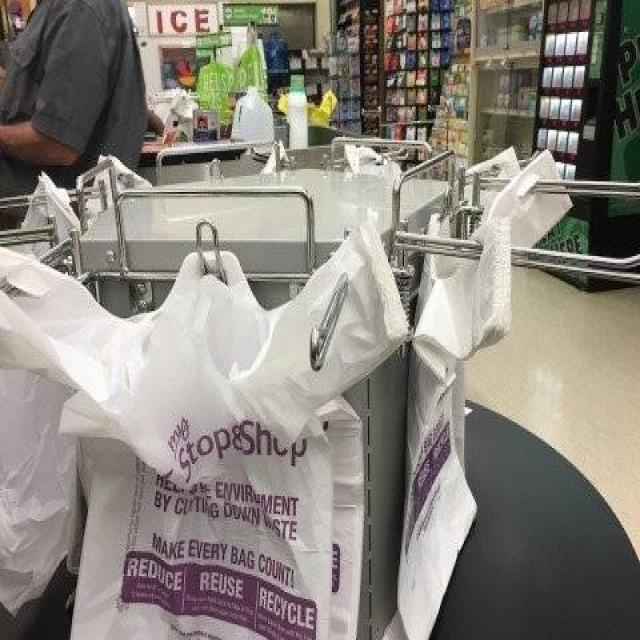plastic_bag: (97, 263, 358, 640), (1, 192, 82, 604), (406, 233, 480, 633)
